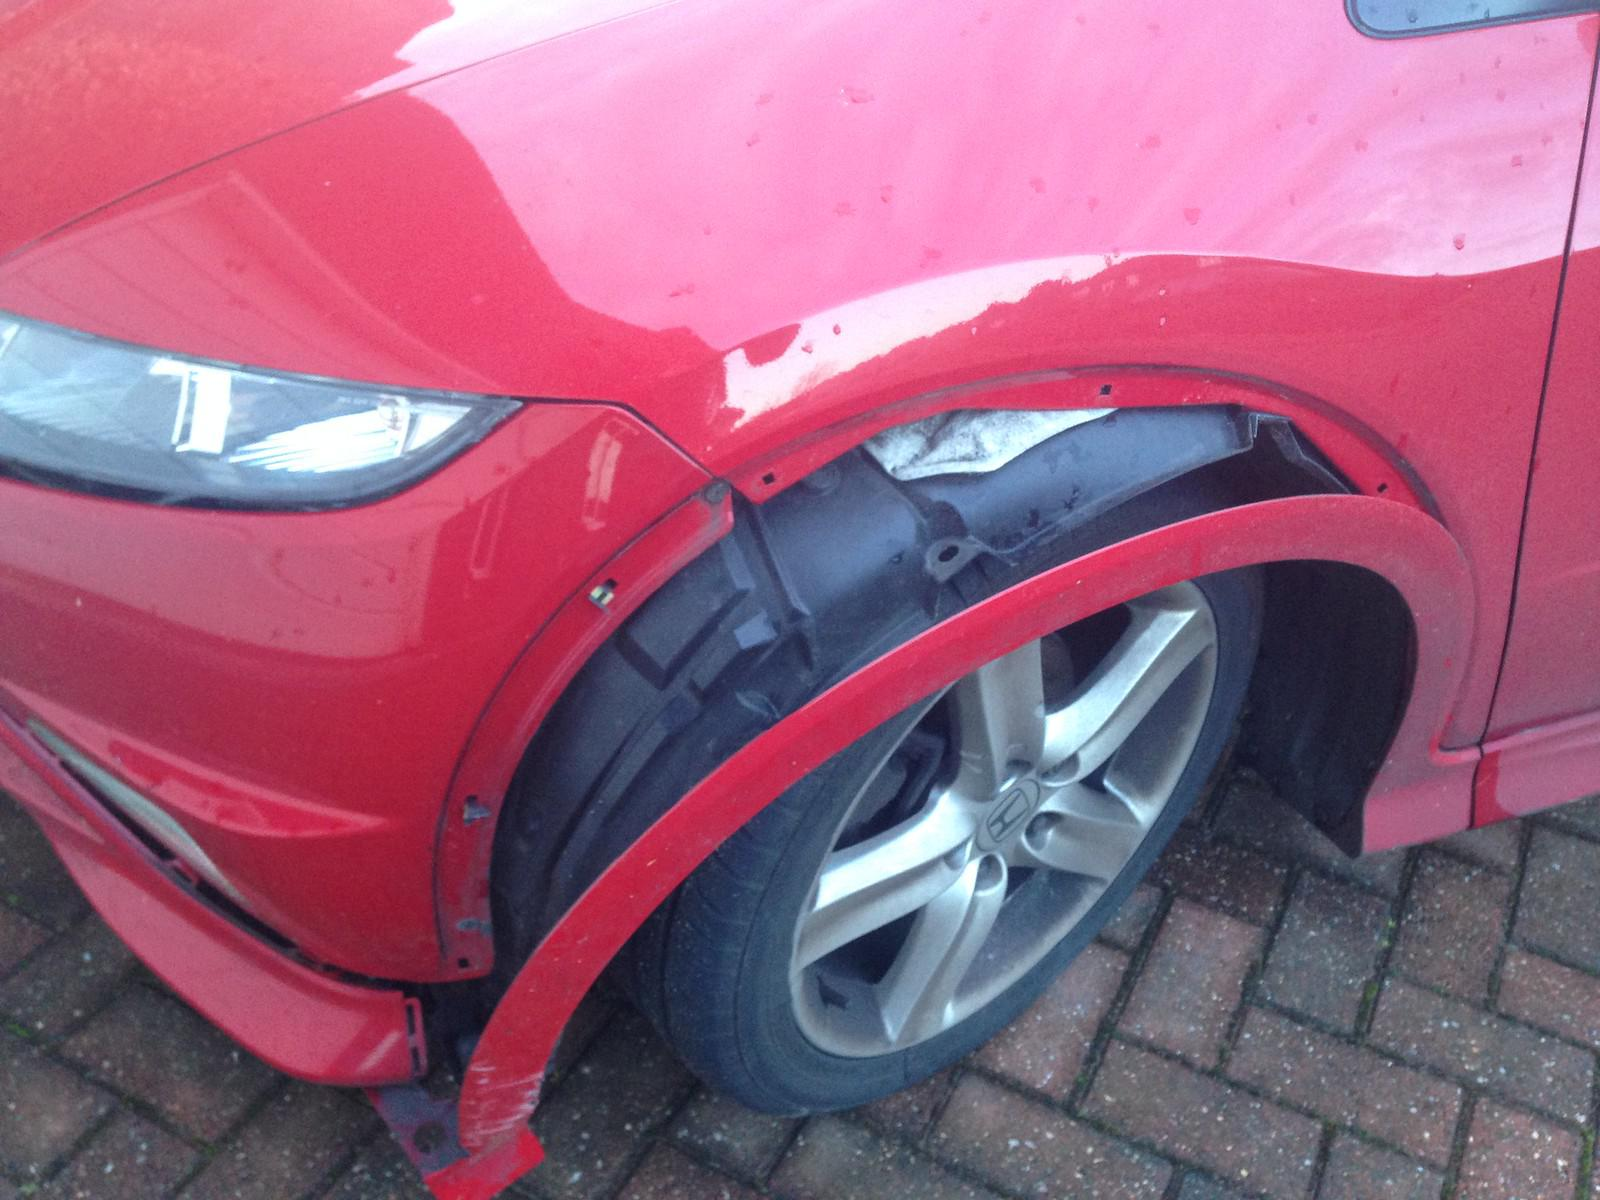fender-dent: (411, 373, 1500, 1116)
